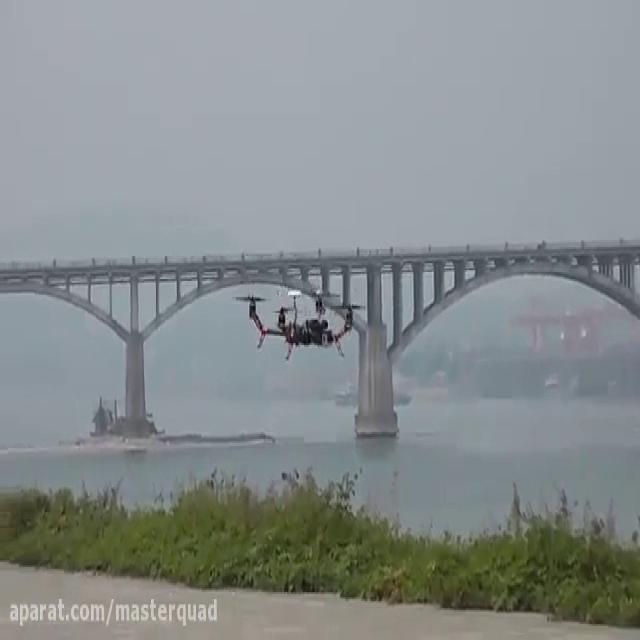drone: (227, 283, 367, 359)
